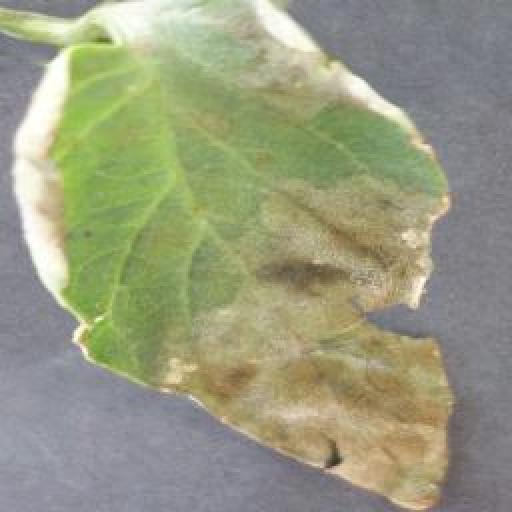disease_tomato: (14, 0, 456, 512)
